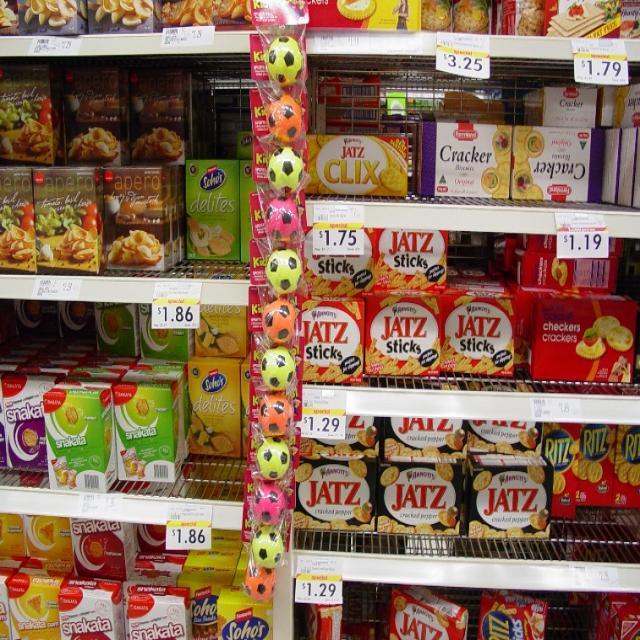q109: (469, 454, 550, 536), (294, 462, 374, 535), (378, 460, 461, 529)
